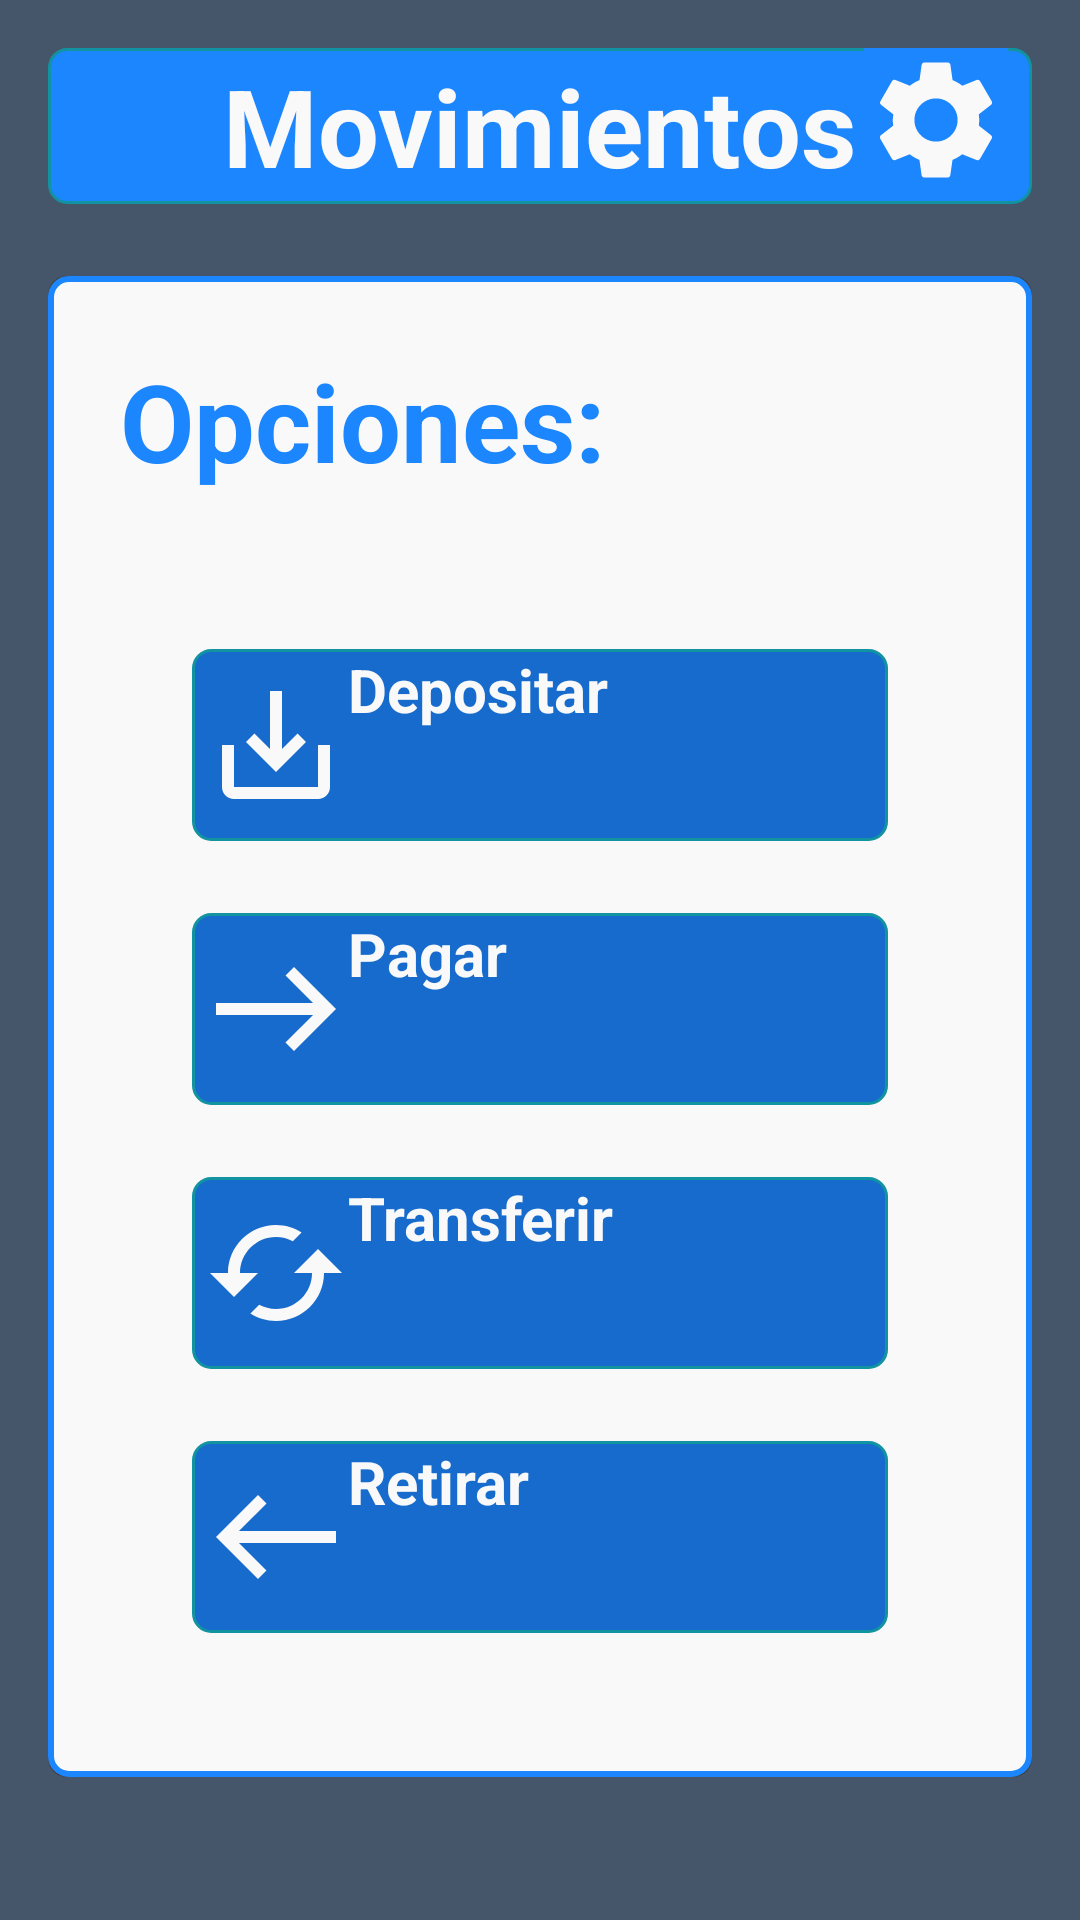

Where icons sit on this 1080*1920 app screen, as detection(x1, y1, x2, y2):
Configuración: detection(880, 62, 992, 178)
